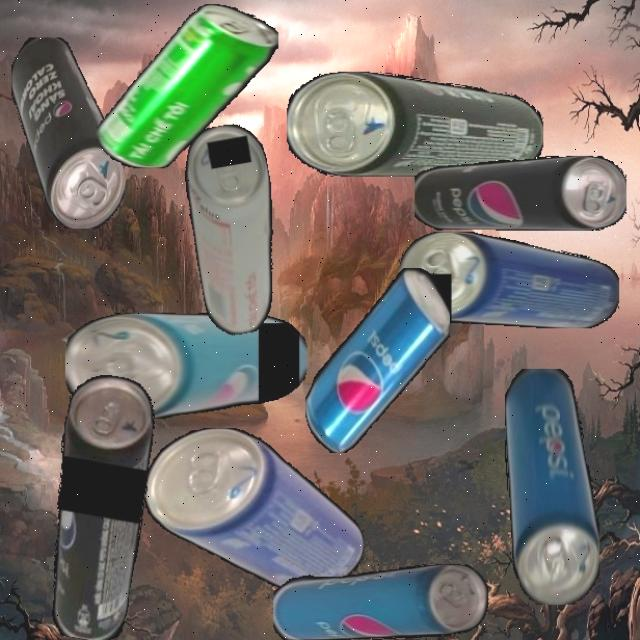debris: (29, 370, 166, 640), (146, 427, 364, 590), (96, 3, 278, 168), (304, 267, 450, 453), (287, 70, 543, 176), (176, 120, 295, 338), (65, 312, 308, 418), (504, 368, 599, 604), (10, 36, 125, 228), (399, 231, 619, 328), (272, 564, 488, 640), (414, 156, 626, 230)
